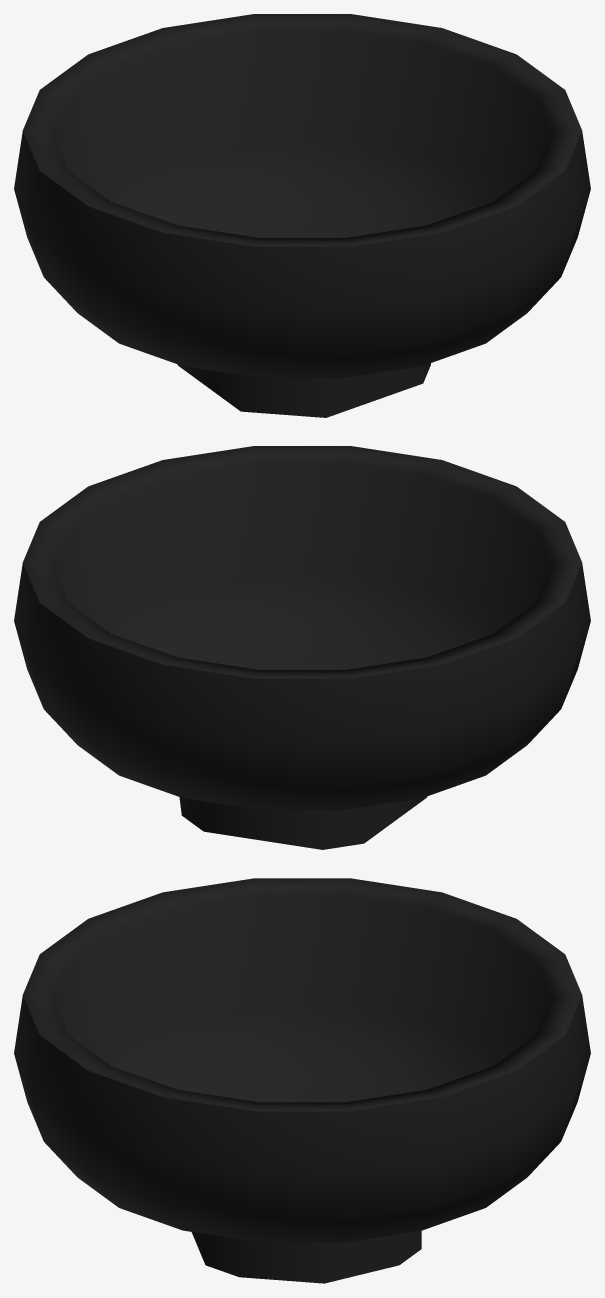
File: cc0-bowl-lod1.glb
The picture shows the model from 3 angles, top to bottom: view 1: azimuth 30°, elevation 25°; view 2: azimuth 150°, elevation 25°; view 3: azimuth 270°, elevation 25°; orthographic projection.
Visible parts, largest first — view 1: part_0; view 2: part_0; view 3: part_0.
Boxes of the visible parts, x1=… form: part_0: x1=14, y1=14, x2=590, y2=417; part_0: x1=14, y1=446, x2=590, y2=849; part_0: x1=14, y1=878, x2=590, y2=1283.
Size of the model in its own units: 0.9845 by 0.4498 by 0.9997.
1 material, 1 textured.
